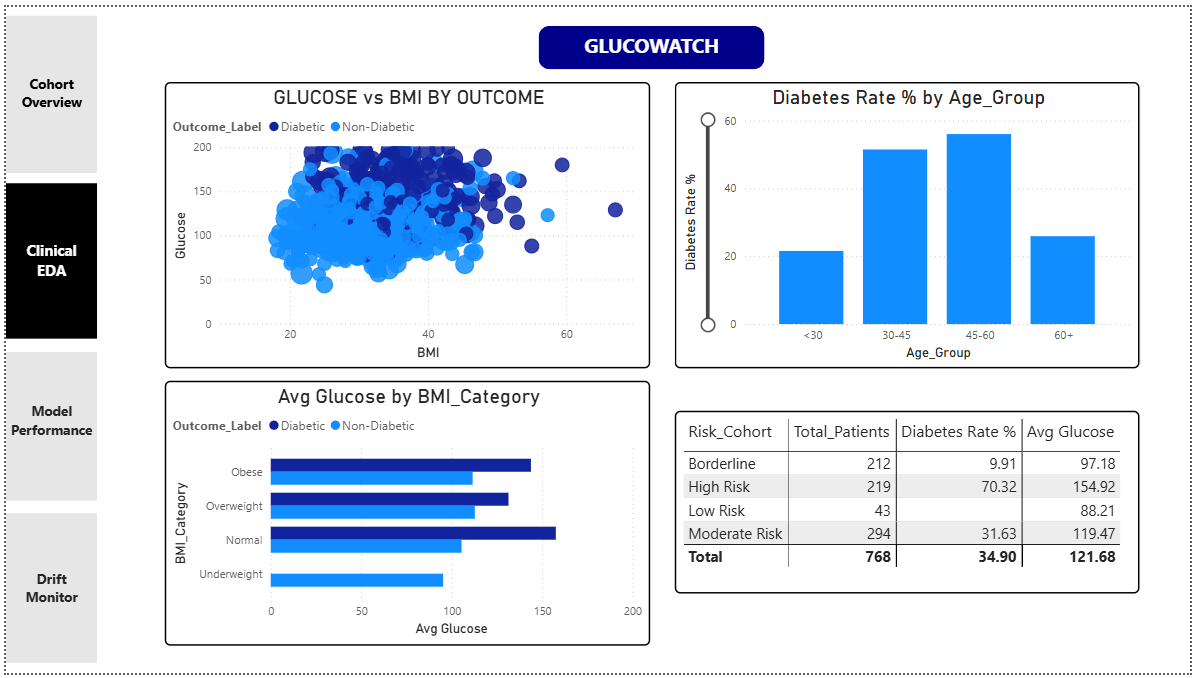

What the dashboard file says about the page in this screenshot:
{"tool":"powerbi","page":{"name":"Clinical EDA","canvas":[1280,720],"ordinal":1},"visuals":[{"type":"group","id":"g1","title":"Group 6","box":[0,9.3,98.7,699.1],"z":0},{"type":"shape","box":[575,20.8,244.4,47.2],"z":1000,"group":"g2"},{"type":"scatterChart","title":"GLUCOSE vs BMI BY OUTCOME","fields":{"Size":["Sum(glucowatch_cleaned.Age)"],"Series":["glucowatch_cleaned.Outcome_Label"],"X":["glucowatch_cleaned.BMI"],"Y":["glucowatch_cleaned.Glucose"]},"box":[172.2,80.6,525,309.7],"z":1000},{"type":"group","id":"g2","title":"Group 7","box":[575,20.8,244.4,47.2],"z":2000},{"type":"textbox","box":[610.7,22.2,174.4,45.8],"z":2000,"group":"g2"},{"type":"shape","box":[0,9.3,98.7,170],"z":3000,"group":"g6"},{"type":"clusteredColumnChart","fields":{"Category":["glucowatch_cleaned.Age_Group"],"Y":["glucowatch_cleaned.Diabetes Rate %"]},"box":[723.6,80.6,502.8,309.7],"z":3000},{"type":"clusteredBarChart","title":"Avg Glucose by BMI_Category","fields":{"Category":["glucowatch_cleaned.BMI_Category"],"Y":["glucowatch_cleaned.Avg Glucose"],"Series":["glucowatch_cleaned.Outcome_Label"]},"box":[172.2,404.2,525,286.1],"z":4000},{"type":"shape","box":[0,190.6,98.7,168.4],"z":5000,"group":"g5"},{"type":"tableEx","fields":{"Values":["glucowatch_cleaned.Risk_Cohort","glucowatch_phase3_final.Total_Patients1","glucowatch_cleaned.Diabetes Rate %","glucowatch_cleaned.Avg Glucose"]},"box":[723.6,436.1,502.8,197.2],"z":5000},{"type":"shape","box":[0,373.3,98.7,160.7],"z":7000,"group":"g4"},{"type":"shape","box":[0,546.6,98.7,161.7],"z":8000,"group":"g3"},{"type":"group","id":"g3","title":"Group 1","box":[0,546.6,98.7,161.7],"z":9000,"group":"g1"},{"type":"group","id":"g4","title":"Group 3","box":[0,373.3,98.7,160.7],"z":10000,"group":"g1"},{"type":"group","id":"g5","title":"Group 4","box":[0,190.6,98.7,168.4],"z":11000,"group":"g1"},{"type":"group","id":"g6","title":"Group 5","box":[0,9.3,98.7,170],"z":12000,"group":"g1"},{"type":"textbox","box":[6.7,67.5,85.3,50.7],"z":13000,"group":"g6"},{"type":"textbox","box":[0,248,98.6,61.1],"z":14000,"group":"g5"},{"type":"textbox","box":[0,421.4,98.6,73.6],"z":15000,"group":"g4"},{"type":"textbox","box":[0,601.7,98.7,52],"z":16000,"group":"g3"}]}

Visuals, with their boxes in screenshot pixels (x1, y1, x2, y2), scaled from the page's 1280x720 canvas onto the 1195x678 screenshot:
"Group 6" group: <box>0,9,92,667</box>
shape: <box>537,20,765,64</box>
"GLUCOSE vs BMI BY OUTCOME" scatterChart: <box>161,76,651,368</box>
"Group 7" group: <box>537,20,765,64</box>
textbox: <box>570,21,733,64</box>
shape: <box>0,9,92,169</box>
clusteredColumnChart - glucowatch_cleaned.Age_Group x glucowatch_cleaned.Diabetes Rate %: <box>676,76,1145,368</box>
"Avg Glucose by BMI_Category" clusteredBarChart: <box>161,381,651,650</box>
shape: <box>0,179,92,338</box>
tableEx - glucowatch_cleaned.Risk_Cohort x glucowatch_phase3_final.Total_Patients1: <box>676,411,1145,596</box>
shape: <box>0,352,92,503</box>
shape: <box>0,515,92,667</box>
"Group 1" group: <box>0,515,92,667</box>
"Group 3" group: <box>0,352,92,503</box>
"Group 4" group: <box>0,179,92,338</box>
"Group 5" group: <box>0,9,92,169</box>
textbox: <box>6,64,86,111</box>
textbox: <box>0,234,92,291</box>
textbox: <box>0,397,92,466</box>
textbox: <box>0,567,92,616</box>
